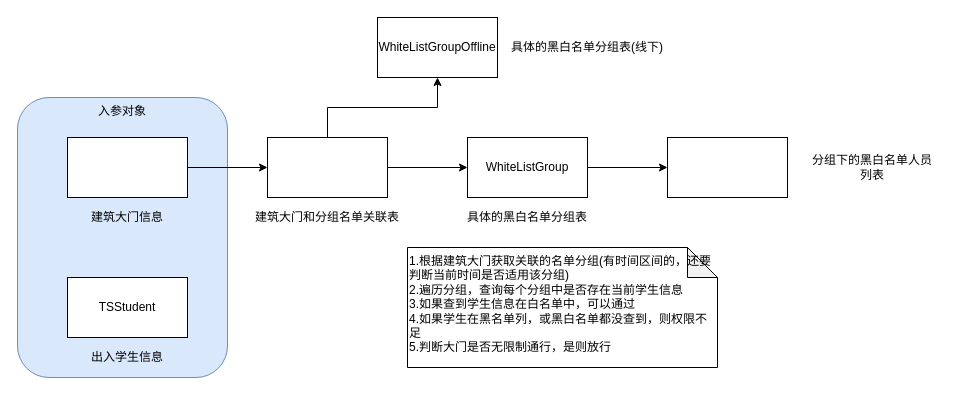
Some shapes in this 955 by 395 pixel diagram are drawn without their labels. Each missing label, with the centre of its shape:
"GateInfo" belongs at point 127,167.
"WhiteListEntity" belongs at point 727,167.
"WhiteListGroupGate" belongs at point 327,167.
